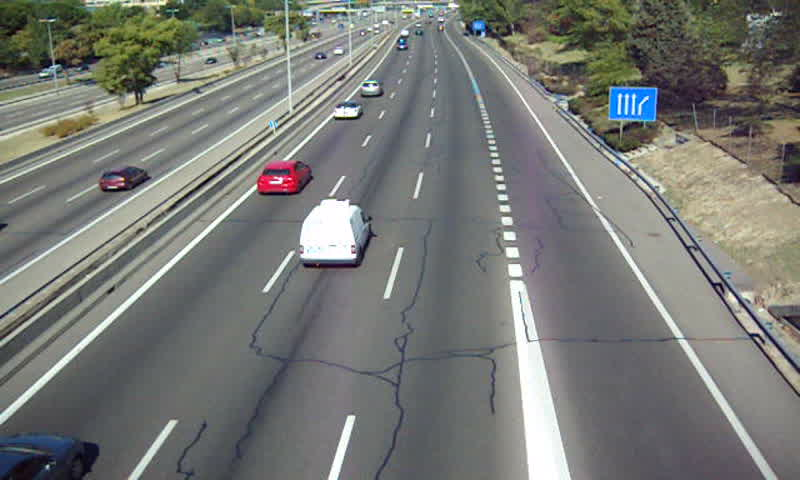car: (256, 161, 309, 195), (333, 102, 364, 120), (359, 78, 382, 97)
van: (299, 199, 370, 266)
